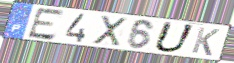4: (65, 13, 87, 44)
6: (125, 19, 158, 50)
E: (26, 7, 67, 42)
K: (189, 26, 221, 58)
U: (152, 20, 198, 54)
X: (92, 15, 129, 47)
